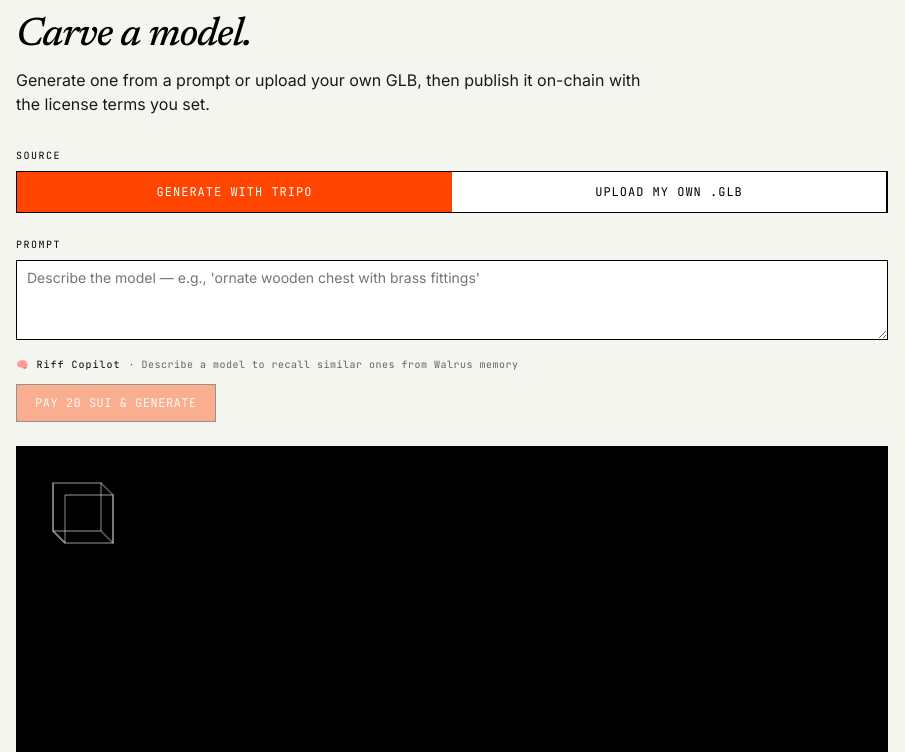
Test: CreateModelPage › does NOT pay when the session is expired — clears it and prompts re-sign-in
Replace the text in the text box with test id "prompt-input" with "a sword" at {"x": 452, "y": 300}, box x1=16 y1=260 x2=888 y2=340
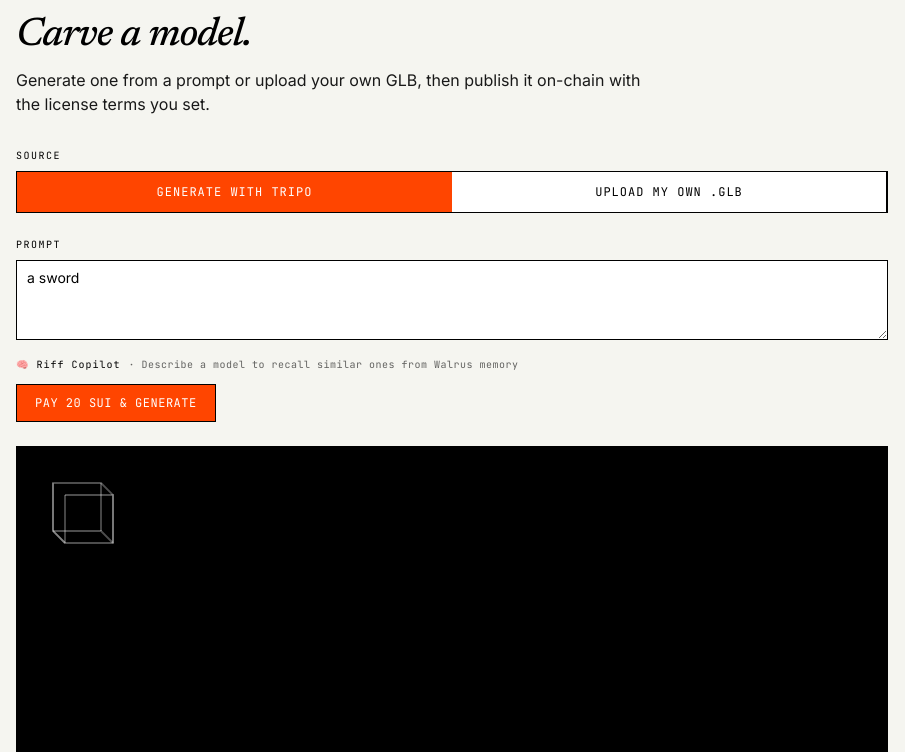
Click the button with test id "generate-button-trigger" at {"x": 116, "y": 403}, box x1=16 y1=384 x2=216 y2=422
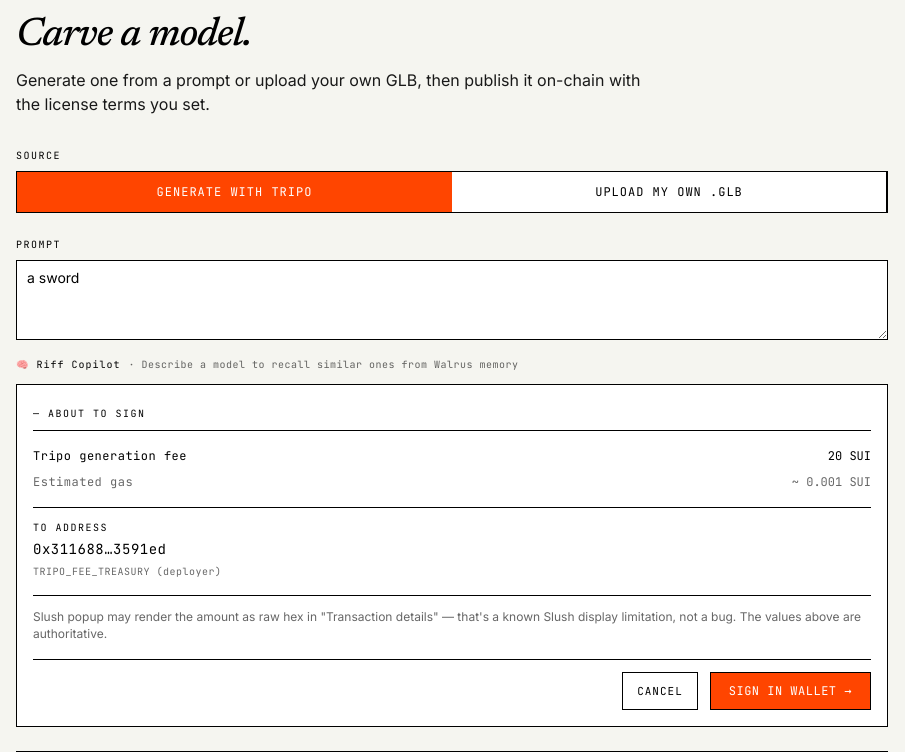
Click the button with test id "generate-button-confirm" at {"x": 790, "y": 691}, box x1=710 y1=672 x2=871 y2=710
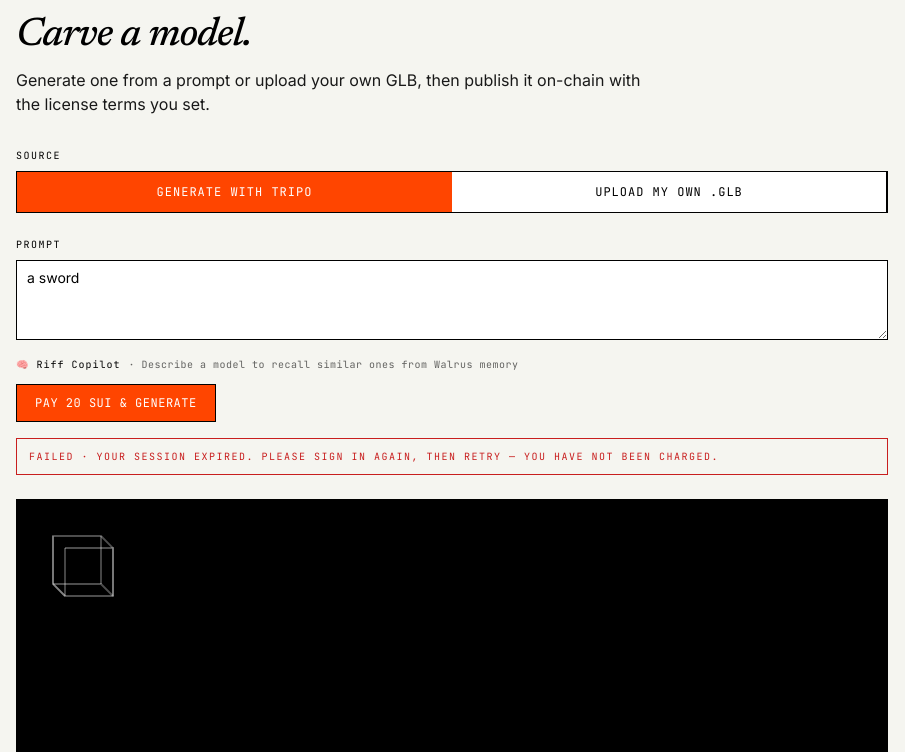
Expected: the text with test id "gen-error" shows "session expired", x1=96 y1=450 x2=719 y2=463
